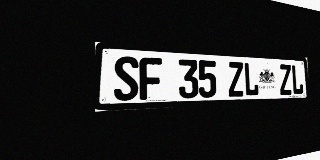3: (178, 59, 198, 99)
5: (198, 60, 217, 98)
F: (139, 57, 162, 100)
L: (244, 62, 259, 96), (291, 65, 304, 95)
S: (114, 56, 139, 101)
Z: (228, 61, 244, 97), (279, 64, 292, 95)
